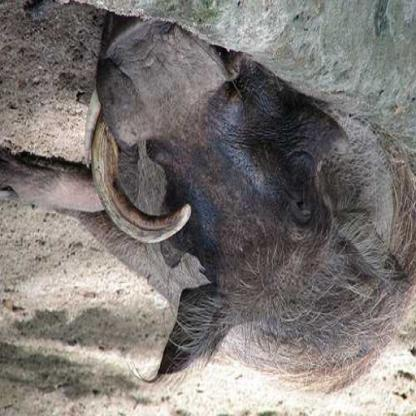boar: (32, 19, 415, 395)
